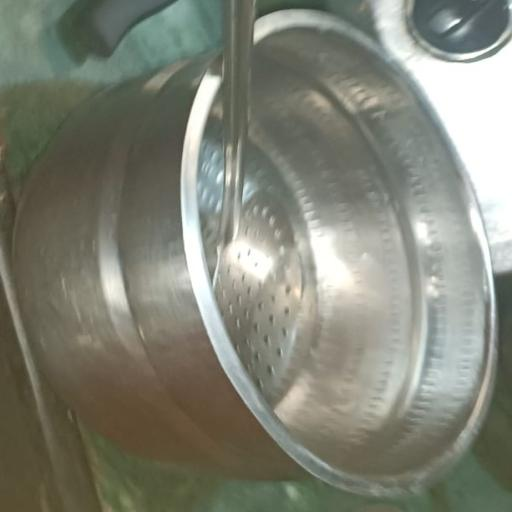vessel: (15, 11, 494, 494)
